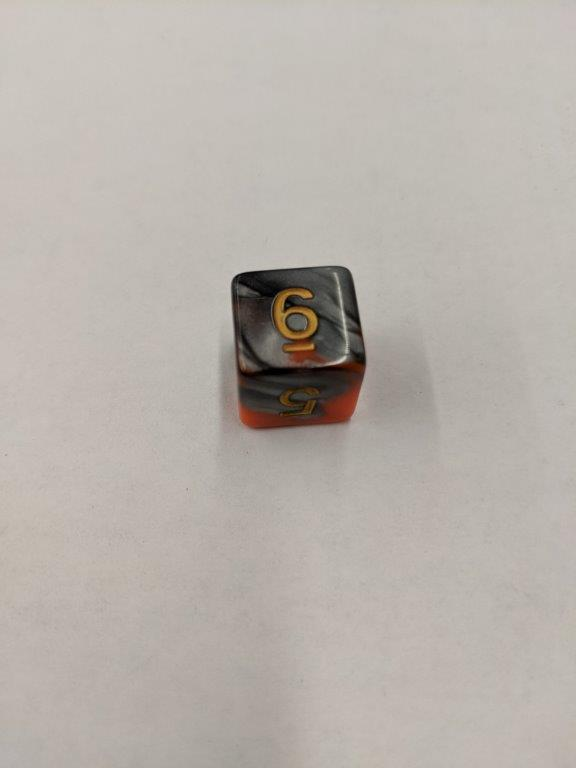d6-6: (232, 263, 366, 436)
